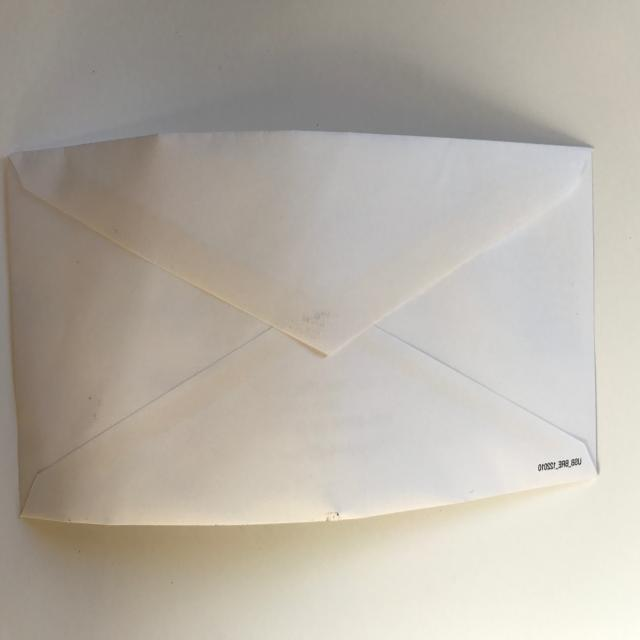paper: (0, 17, 640, 616)
